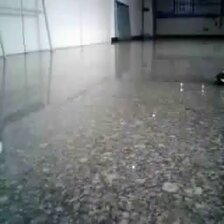tennis: (49, 177, 93, 224)
